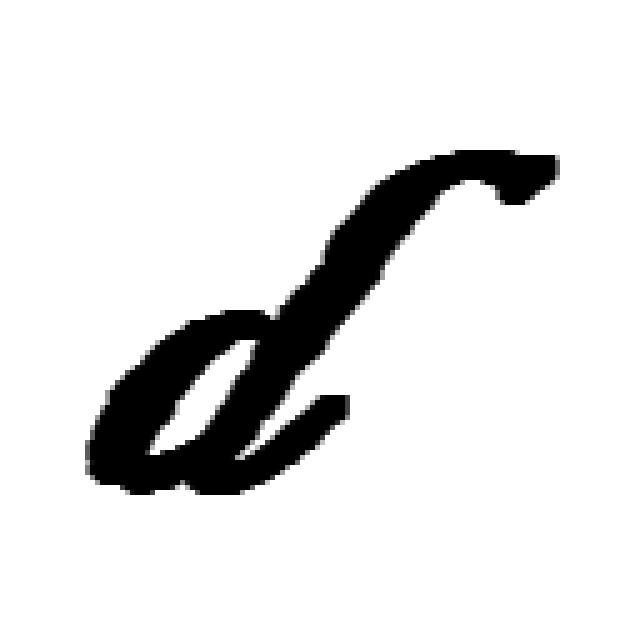D: (75, 135, 565, 500)
